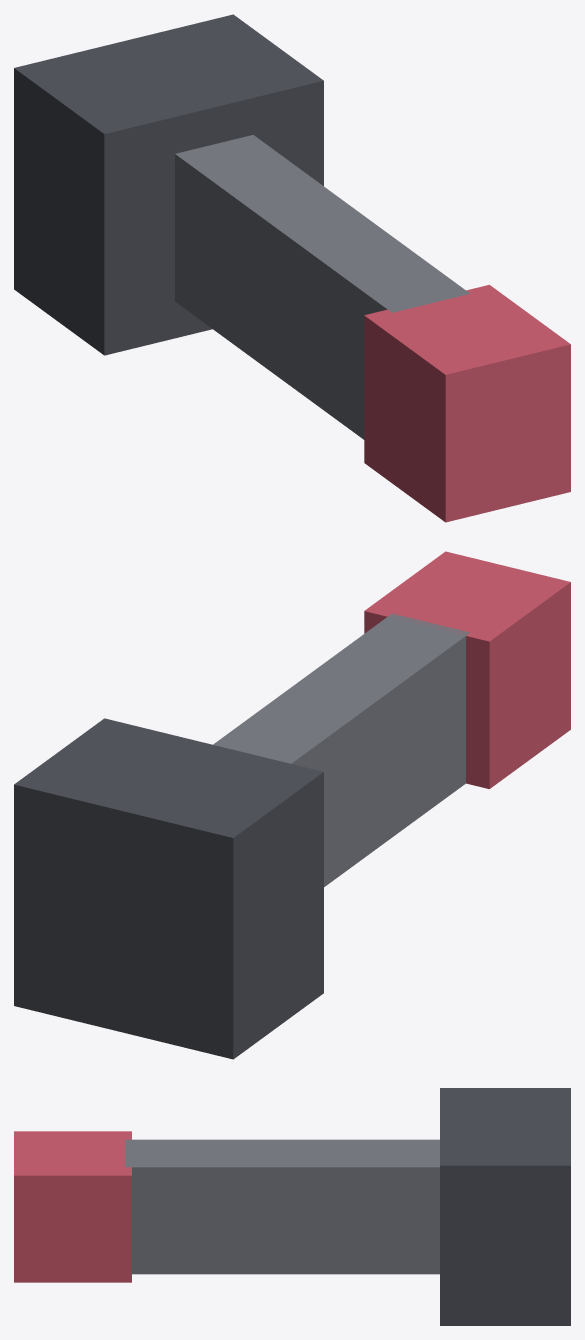
Rendered from energy_sidearm_prop_v02.glb.
The picture shows the model from 3 angles, top to bottom: view 1: azimuth 30°, elevation 25°; view 2: azimuth 150°, elevation 25°; view 3: azimuth 270°, elevation 25°; orthographic projection. The views are drawn at different scales.
Parts seen in each view (by area): view 1: box_1, box_0, box_2; view 2: box_1, box_0, box_2; view 3: box_0, box_1, box_2.
Boxes of the visible parts, bbox=[...] form: box_1: bbox=[14, 14, 323, 355]; box_0: bbox=[175, 135, 470, 439]; box_2: bbox=[364, 284, 570, 522]; box_1: bbox=[14, 718, 323, 1059]; box_0: bbox=[213, 613, 469, 886]; box_2: bbox=[364, 551, 570, 789]; box_0: bbox=[125, 1139, 439, 1274]; box_1: bbox=[440, 1088, 570, 1325]; box_2: bbox=[14, 1131, 131, 1282].
Size of the model in its own units: 0.28 by 0.27 by 0.85.
